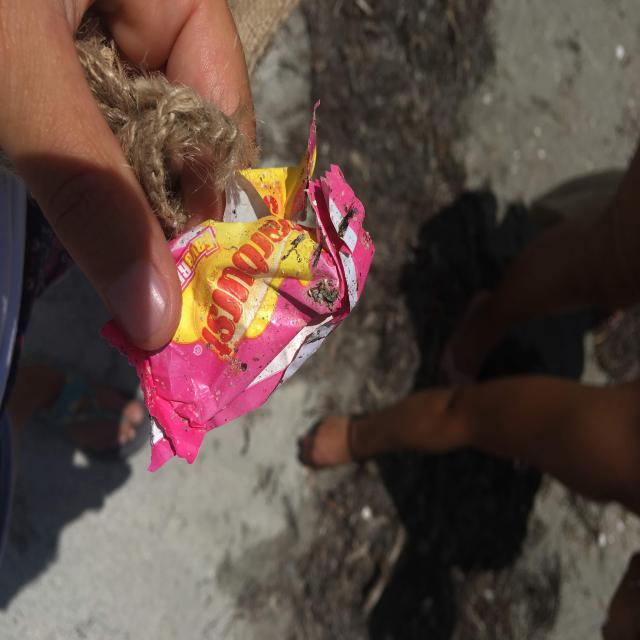litter: (130, 103, 368, 468)
